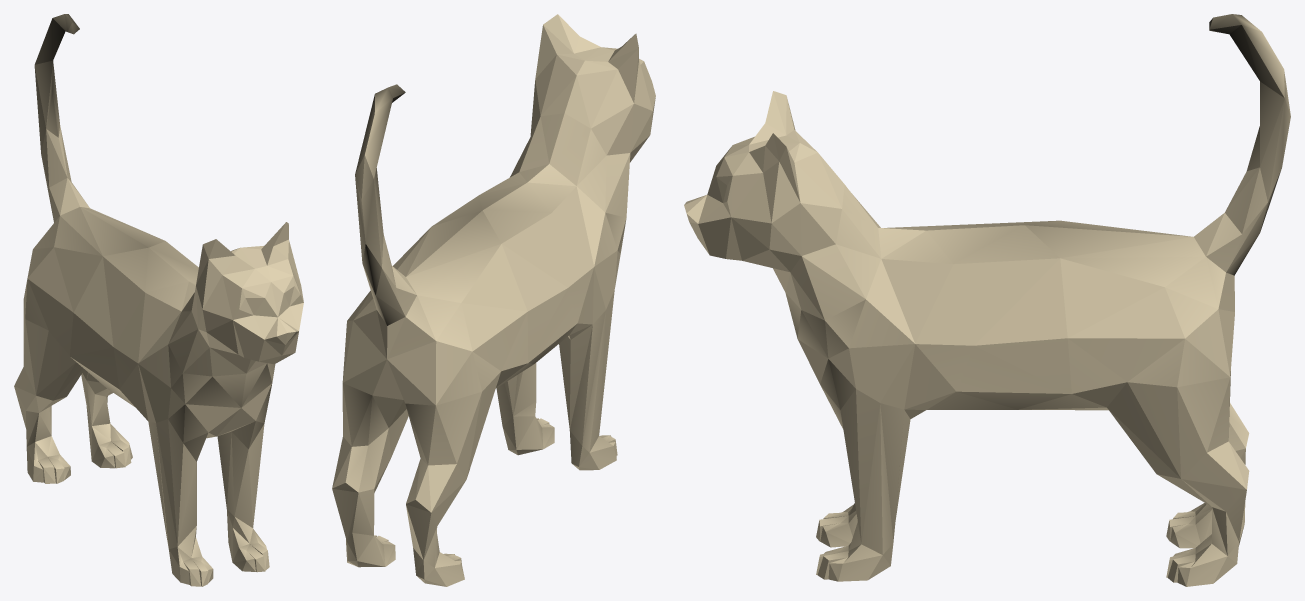
File: Cat_LP.dae
3 views of the same model, side by side, from view 1: azimuth 30°, elevation 25°; view 2: azimuth 150°, elevation 25°; view 3: azimuth 270°, elevation 25° (orthographic). The views are drawn at different scales.
Parts seen in each view (by area): view 1: Cat; view 2: Cat; view 3: Cat.
Part boxes in pixels (box(x1,y1,x2,y2)): Cat: box(14, 14, 303, 586); Cat: box(332, 14, 655, 586); Cat: box(684, 14, 1290, 586).
Size of the model in its own units: 1.22 by 4.24 by 4.19.
